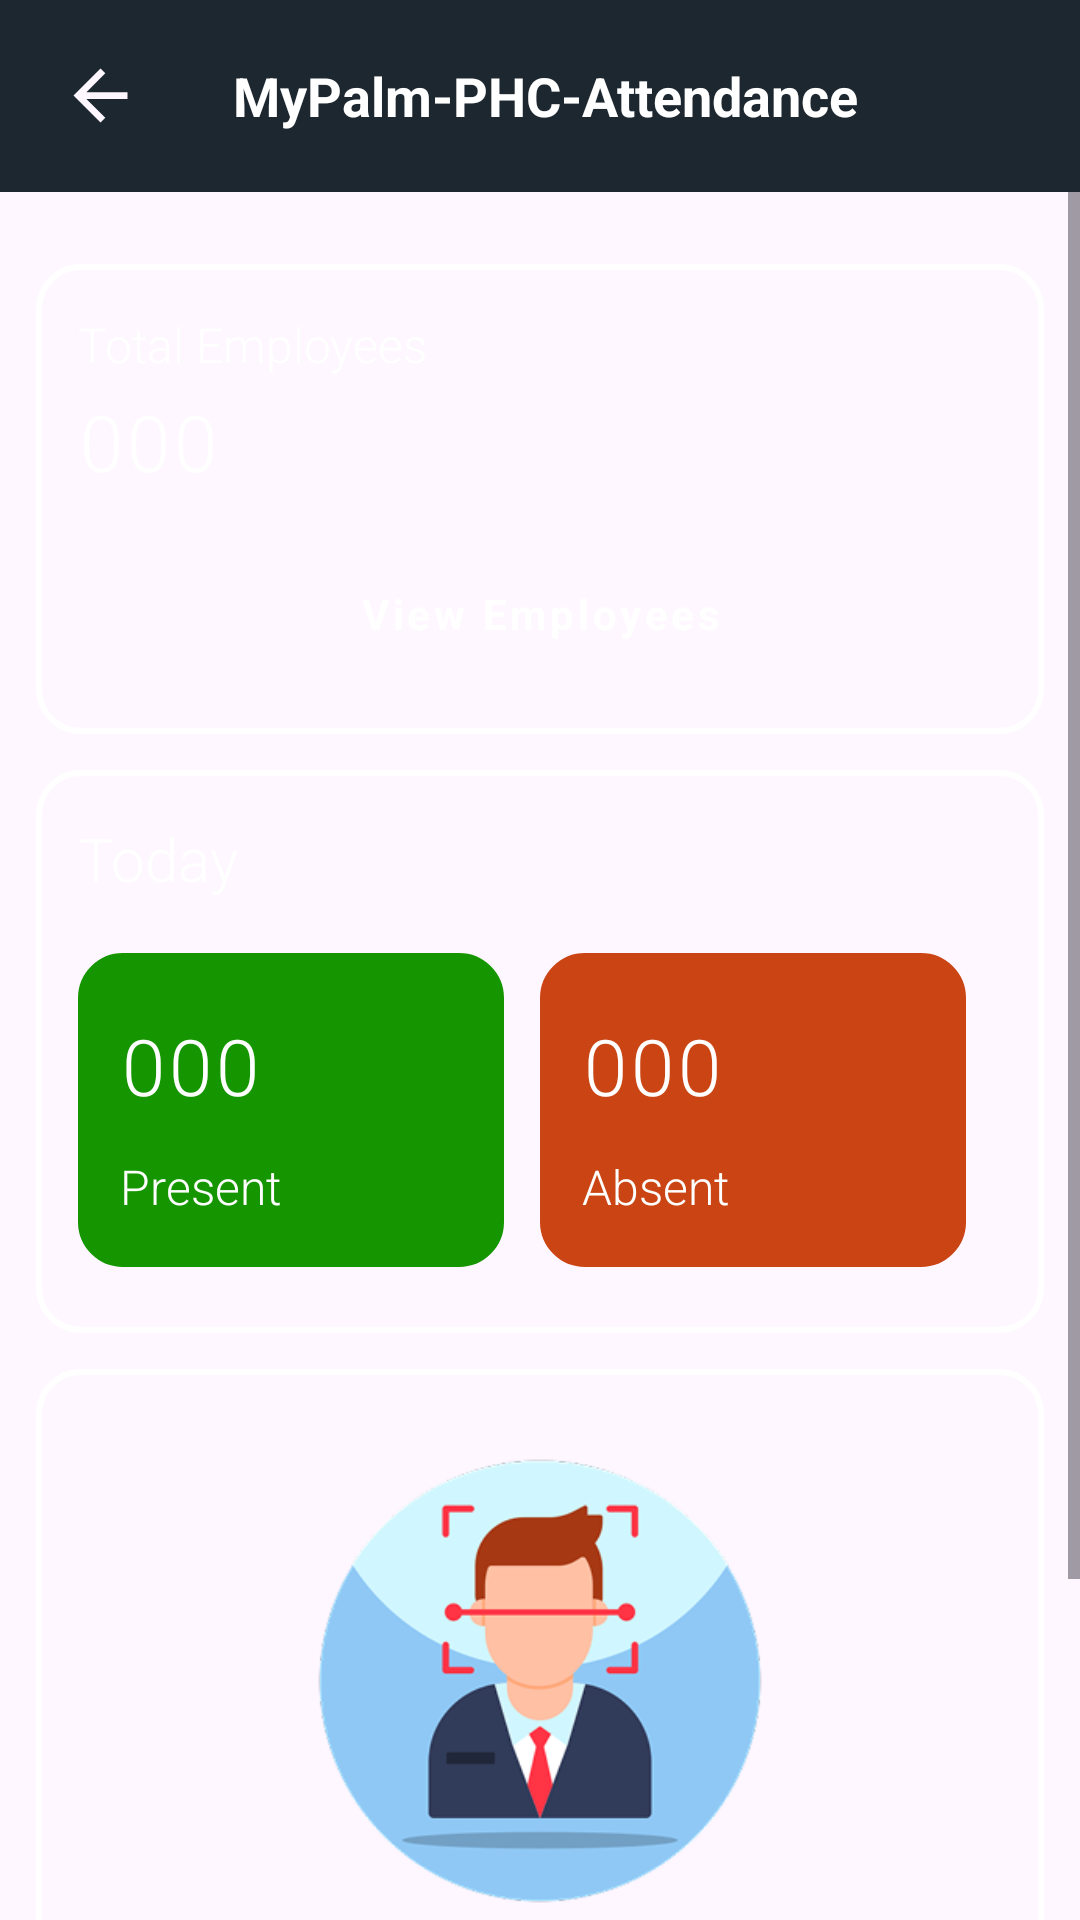

Icon click points for this 1080px×1920px phone screenshot, format (x,y):
arrow back: (100,95)
